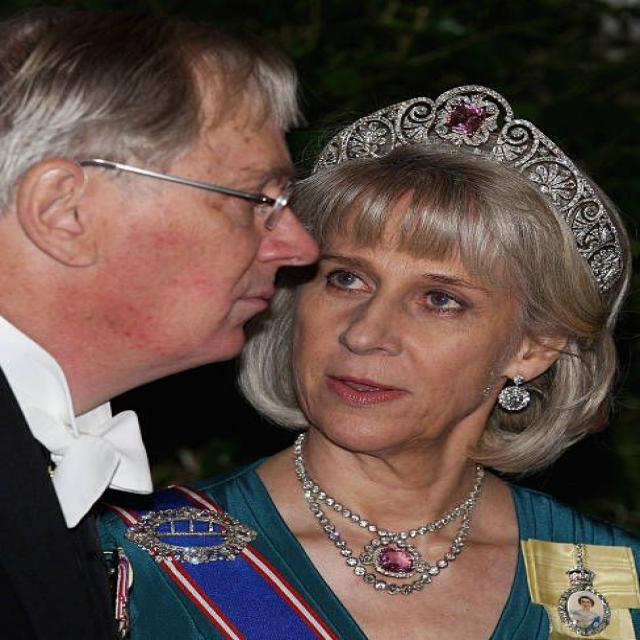Earring: (493, 367, 542, 422)
